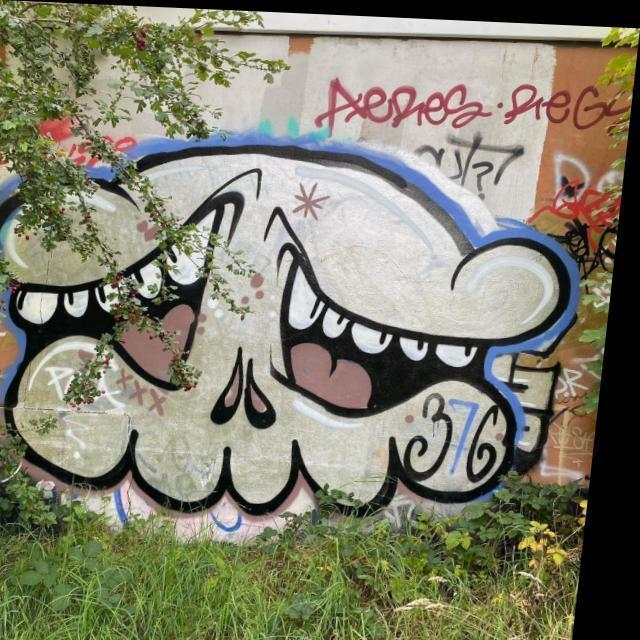nonspitting: (0, 132, 581, 516), (319, 73, 627, 134), (532, 175, 618, 278)
